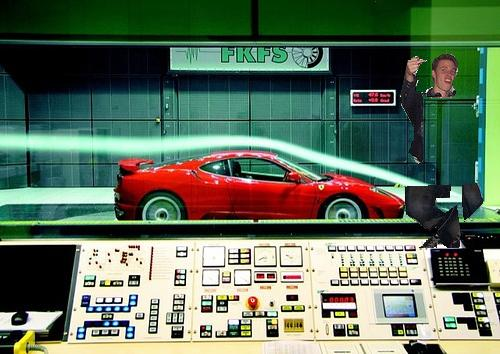tampered: (401, 55, 483, 248)
